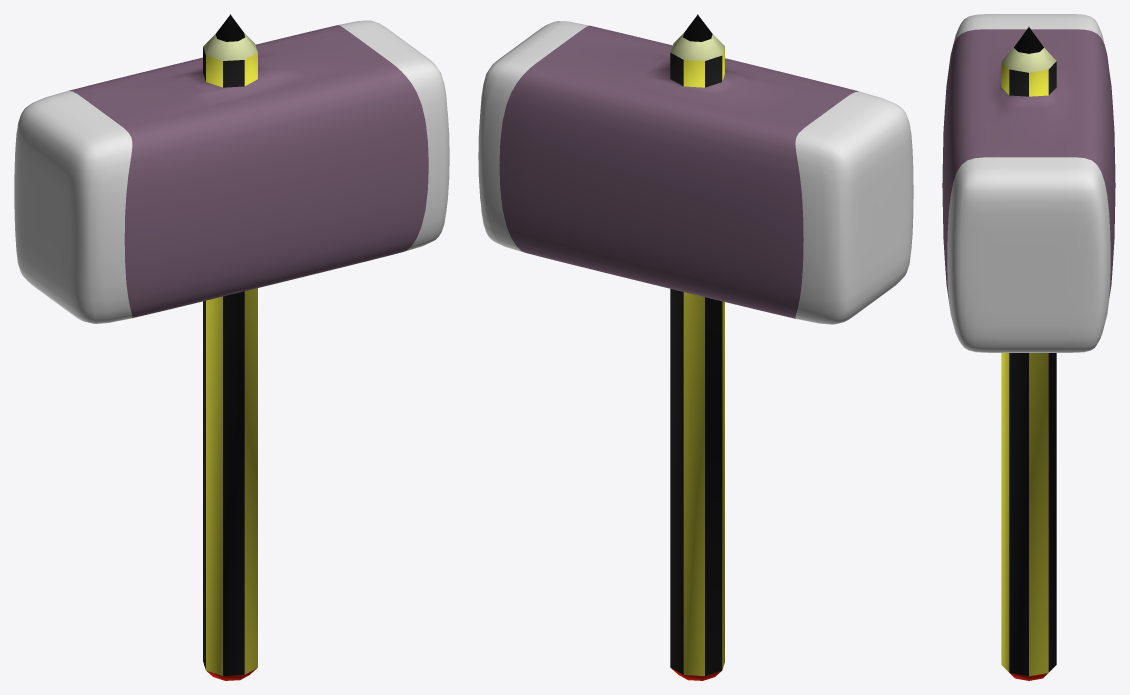
Rendered from ban hammer.fbx.
The picture shows the model from 3 angles, left to right: view 1: azimuth 30°, elevation 25°; view 2: azimuth 150°, elevation 25°; view 3: azimuth 270°, elevation 25°; orthographic projection.
Parts seen in each view (by area): view 1: Cylinder; view 2: Cylinder; view 3: Cylinder.
Boxes of the visible parts, <box> form: Cylinder: <box>14,14,449,680</box>; Cylinder: <box>478,14,913,680</box>; Cylinder: <box>942,14,1115,680</box>.
Bounding box in the file's own units: 465 × 796 × 193.
